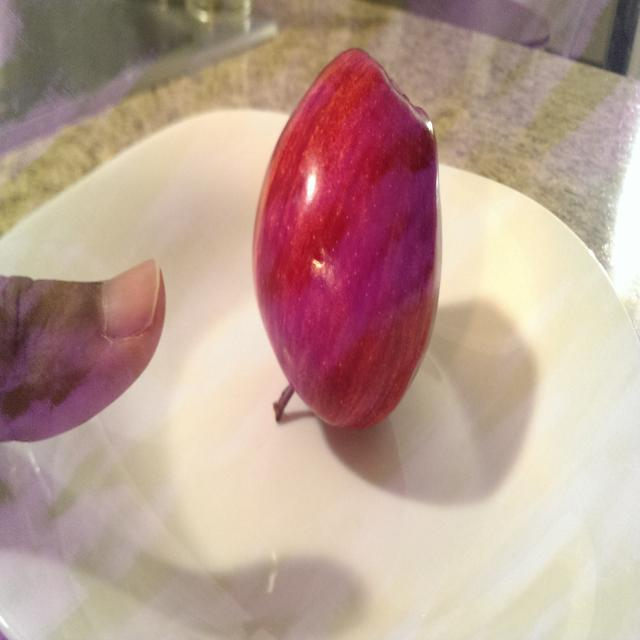apple: (247, 34, 466, 467)
